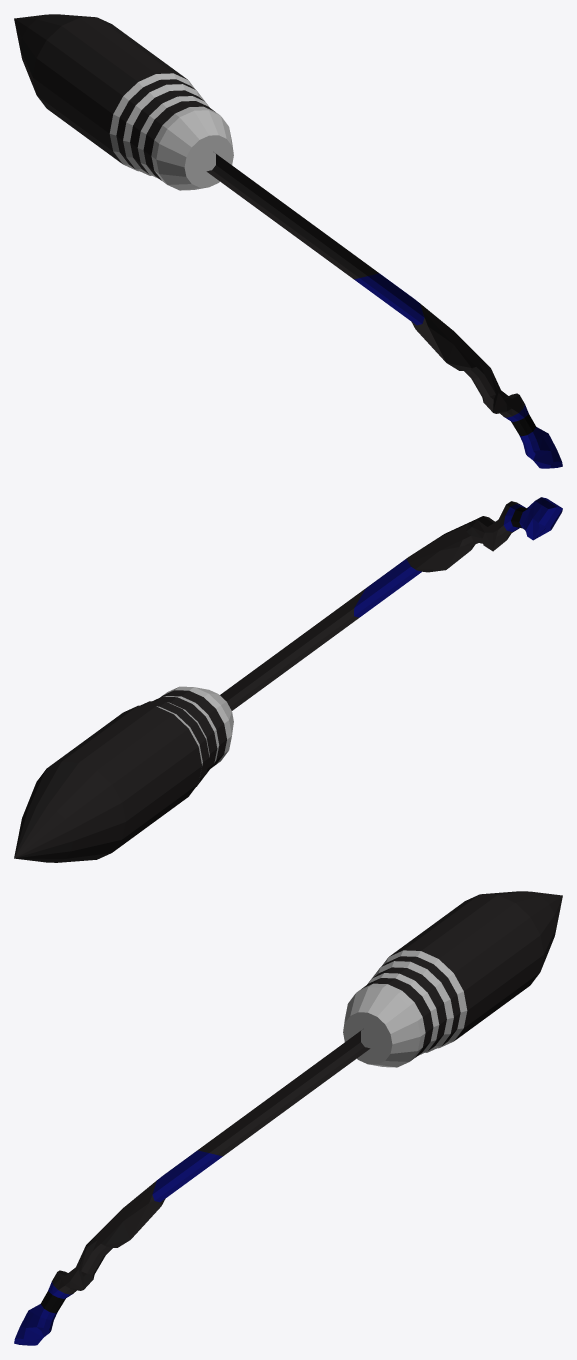
File: bluebottle.obj
The picture shows the model from 3 angles, top to bottom: view 1: azimuth 30°, elevation 25°; view 2: azimuth 150°, elevation 25°; view 3: azimuth 330°, elevation 25°; orthographic projection.
Visible parts, largest first — view 1: Body; view 2: Body; view 3: Body.
Part boxes in pixels (x1,y1,x2,y2): Body: (14, 14, 562, 468); Body: (14, 497, 562, 862); Body: (14, 891, 562, 1345).
Size of the model in its own units: 0.4687 by 0.5341 by 4.79.
